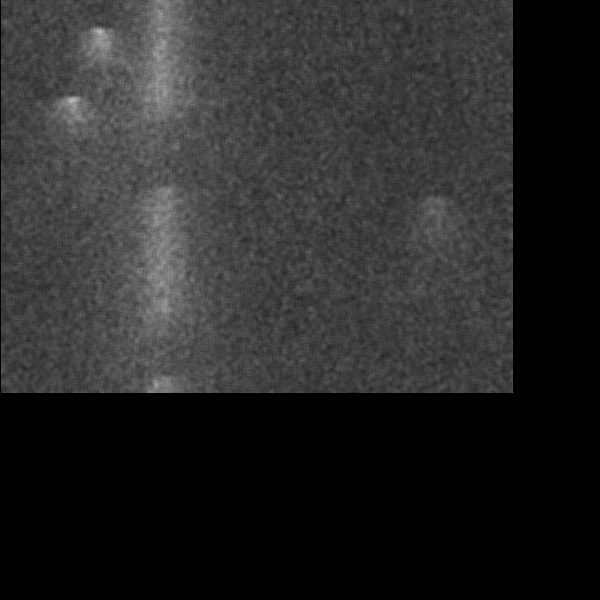spark: (21, 99, 60, 230), (20, 348, 50, 392), (3, 2, 21, 37)
